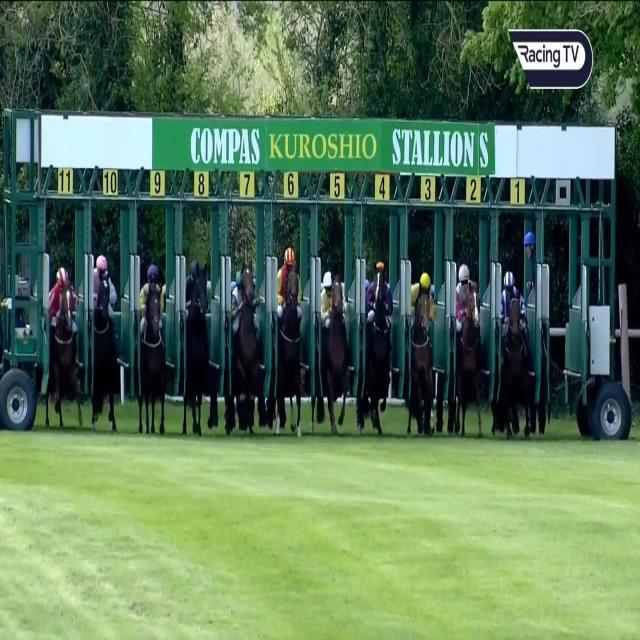horses-racing: (493, 263, 534, 432), (405, 269, 444, 435), (447, 258, 485, 428), (361, 262, 398, 435), (177, 253, 210, 442), (89, 251, 120, 436), (46, 266, 76, 435), (318, 266, 348, 431), (276, 246, 302, 436), (230, 262, 258, 432), (140, 256, 166, 434)
